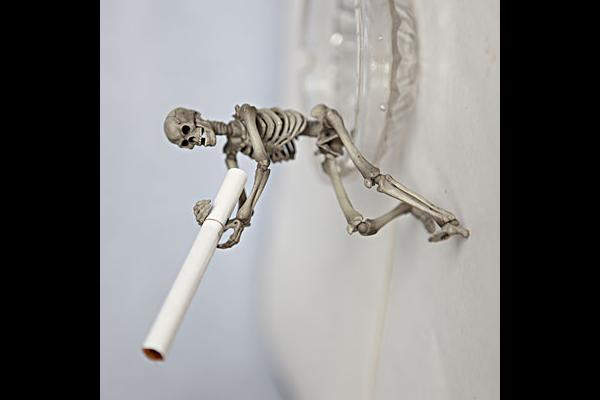Cigarette: (142, 166, 245, 362)
